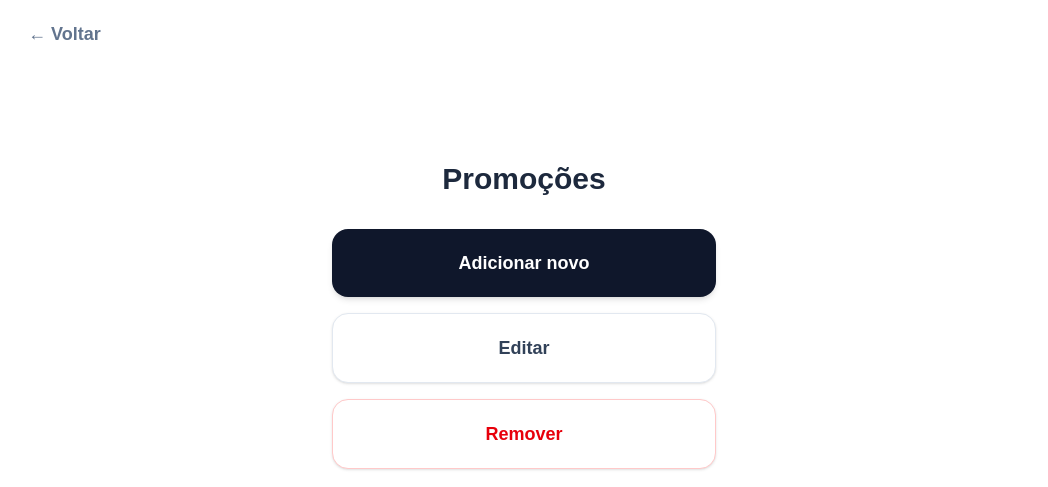
PromocaoHub › abre o PromocaoWizard de criação ao clicar em 'Adicionar novo'
Click the button "Adicionar novo": click(524, 263) top-left (332, 229), bottom-right (716, 297)
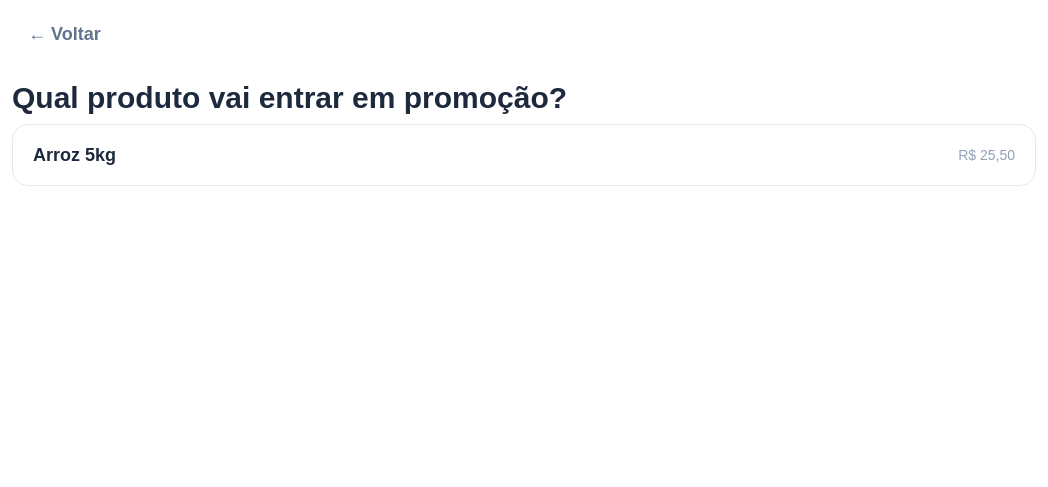
Expected: the heading "Qual produto vai entrar em promoção?" is shown, top-left (12, 81), bottom-right (567, 114)
